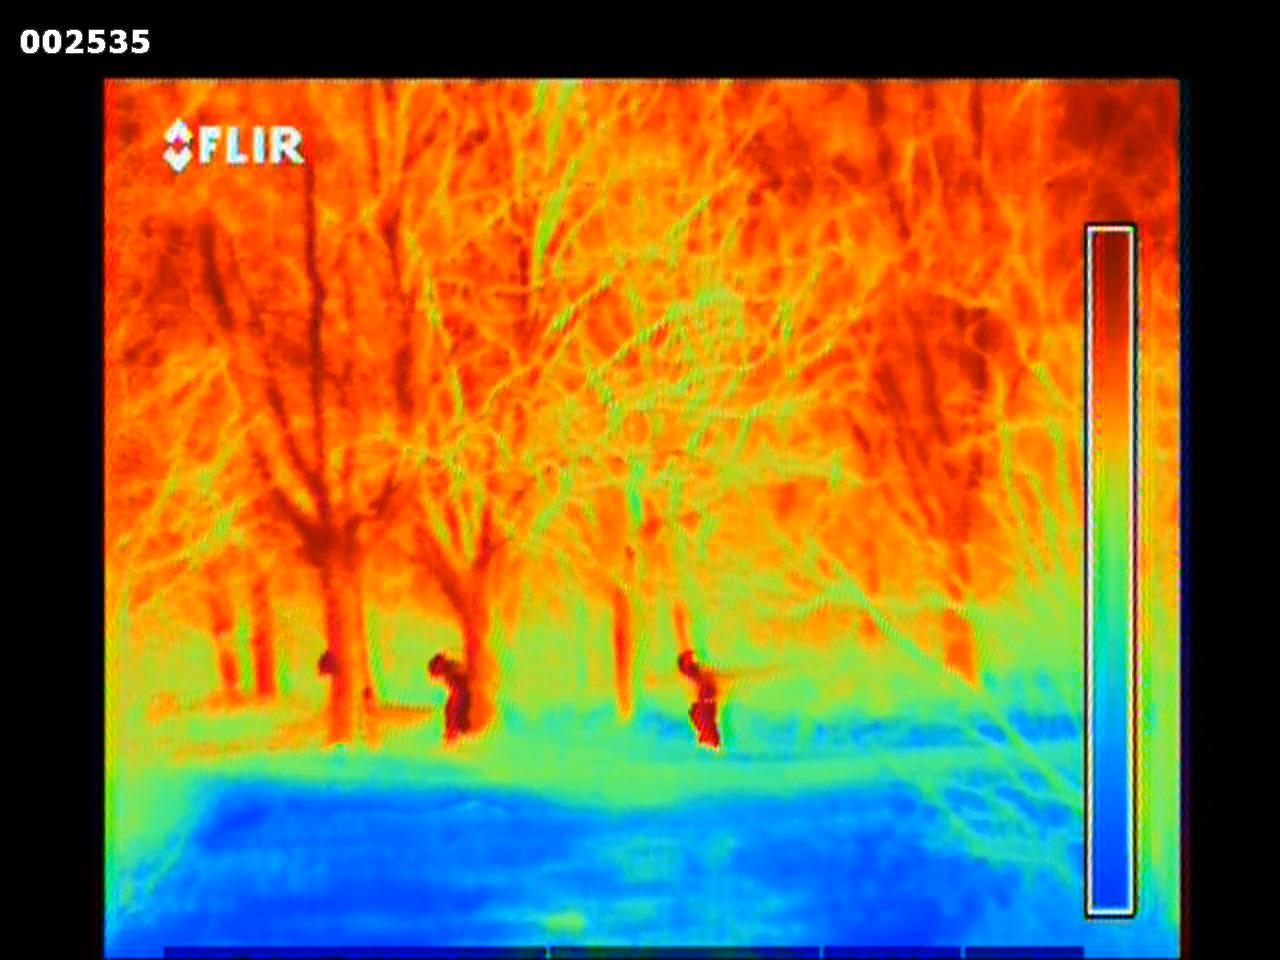persone: (661, 643, 737, 759), (425, 648, 483, 736)
